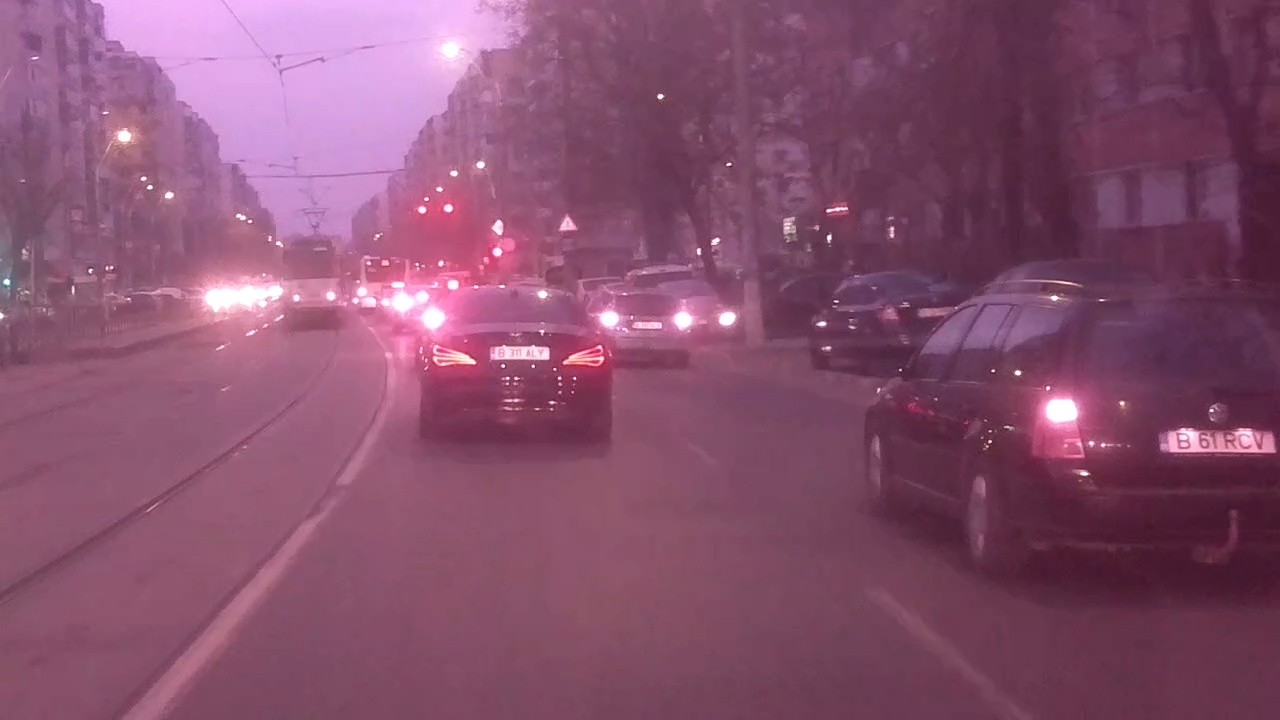license-plate: (1153, 425, 1280, 456), (486, 344, 552, 362)
